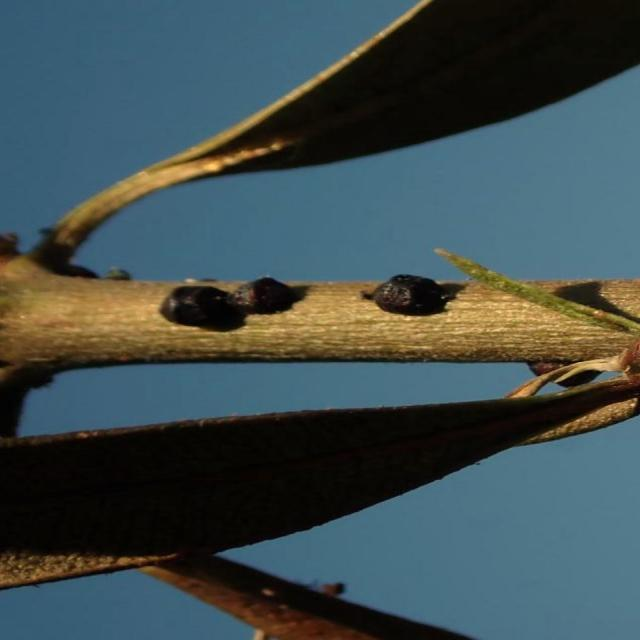Anthracnose: (160, 278, 304, 332), (362, 274, 464, 316)
